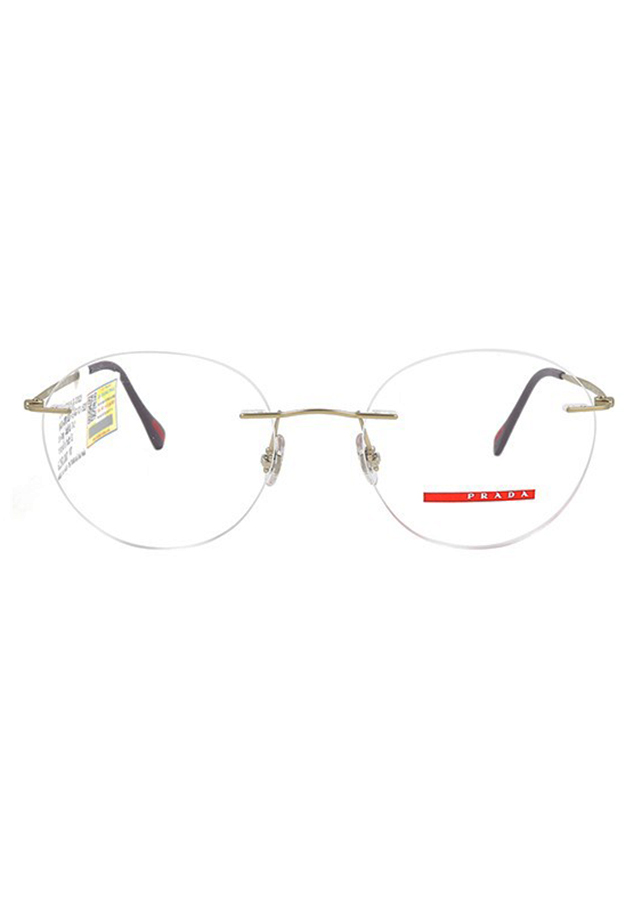Prada: (463, 487, 535, 505)
